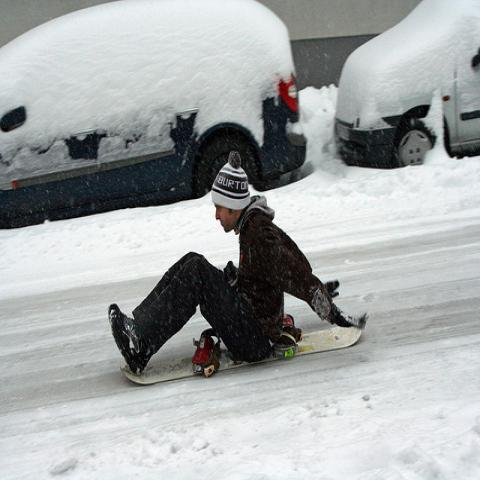car: (1, 1, 307, 229), (335, 4, 480, 175)
